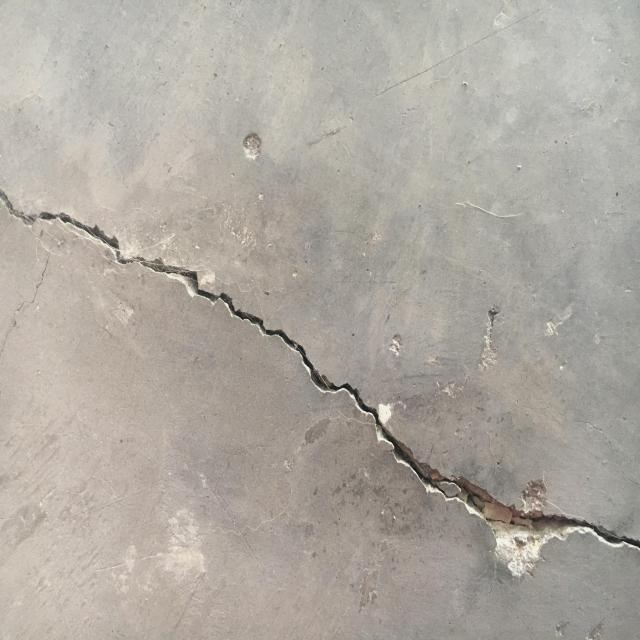SurfaceCrack: (1, 84, 640, 628)
